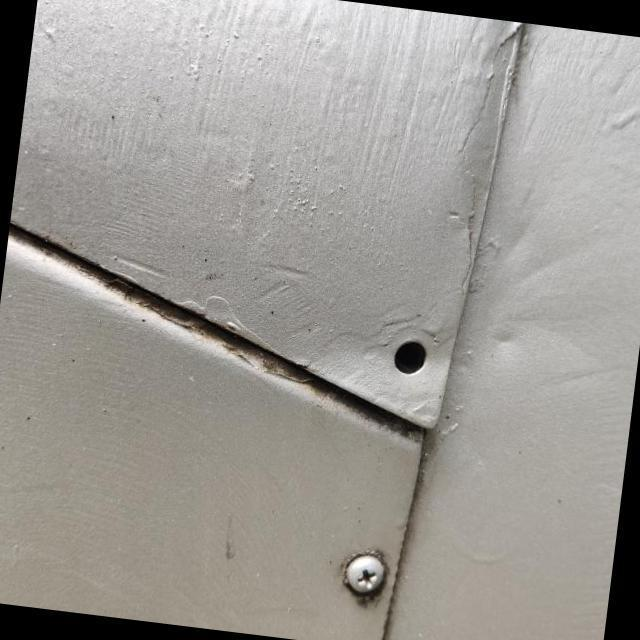Fastener Damage: (354, 300, 474, 415)
